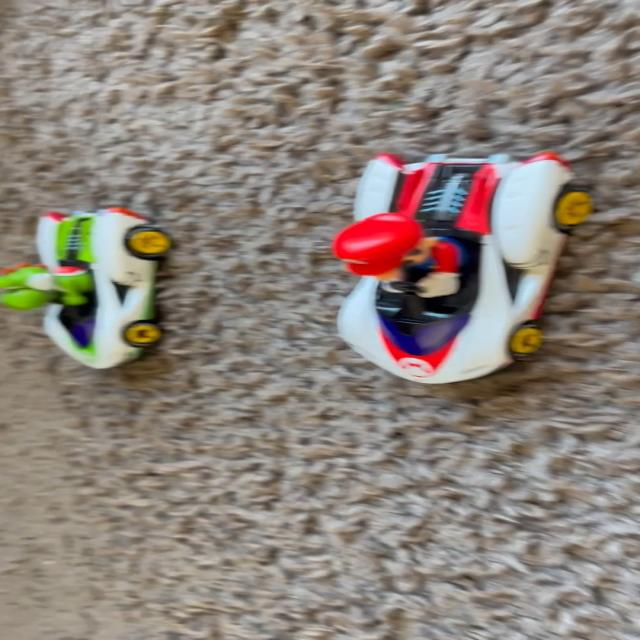mario: (320, 143, 604, 390)
yoshi: (6, 194, 182, 382)
